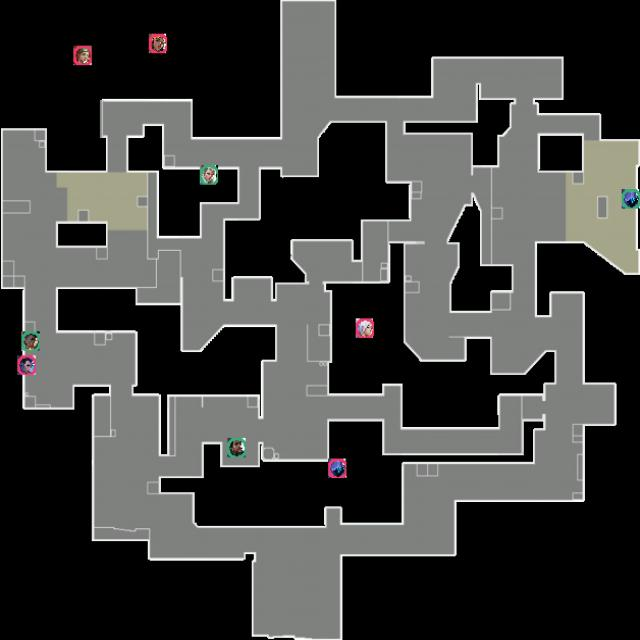atk_jett: (356, 318, 374, 338)
atk_omen: (328, 459, 347, 478)
atk_raze: (149, 34, 167, 53)
atk_skye: (73, 46, 92, 65)
atk_yoru: (17, 355, 36, 375)
def_harbor: (227, 438, 246, 457)
def_omen: (621, 189, 640, 208)
def_phoenix: (21, 331, 40, 351)
def_sova: (200, 165, 218, 185)
